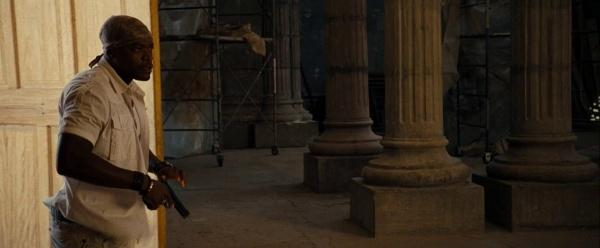Gun: (158, 184, 191, 220)
